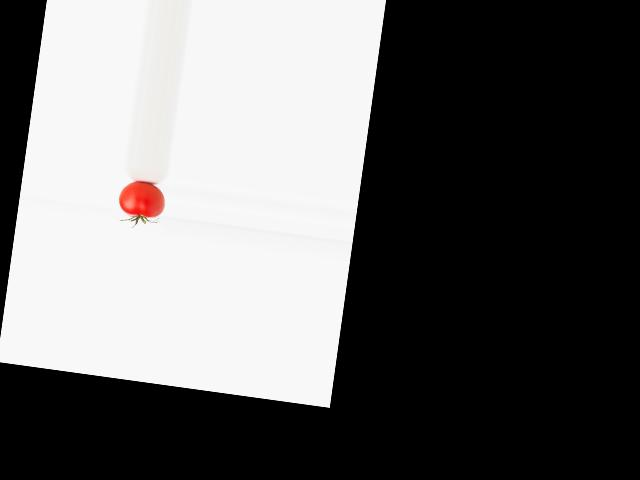tomato: (116, 179, 166, 219)
